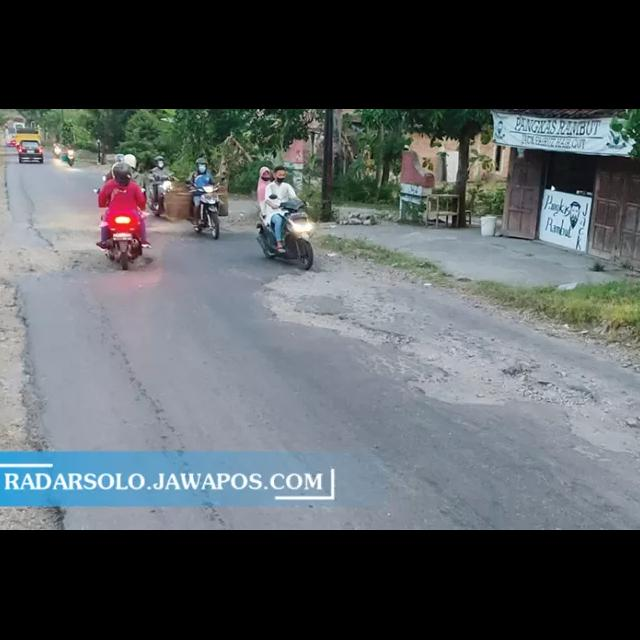lubang_kecil: (398, 330, 592, 428), (246, 267, 407, 356)
